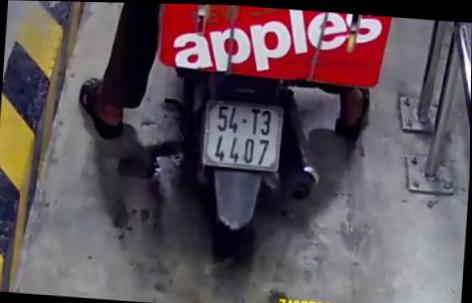LP: (201, 97, 283, 171)
